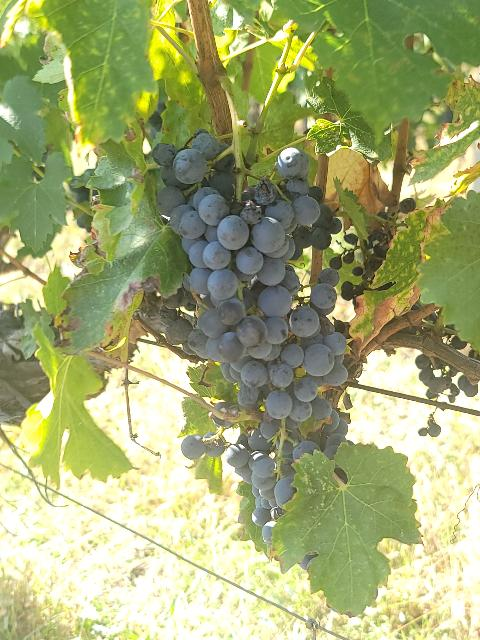grapes: (152, 131, 320, 301), (186, 285, 348, 419), (181, 429, 351, 545)
